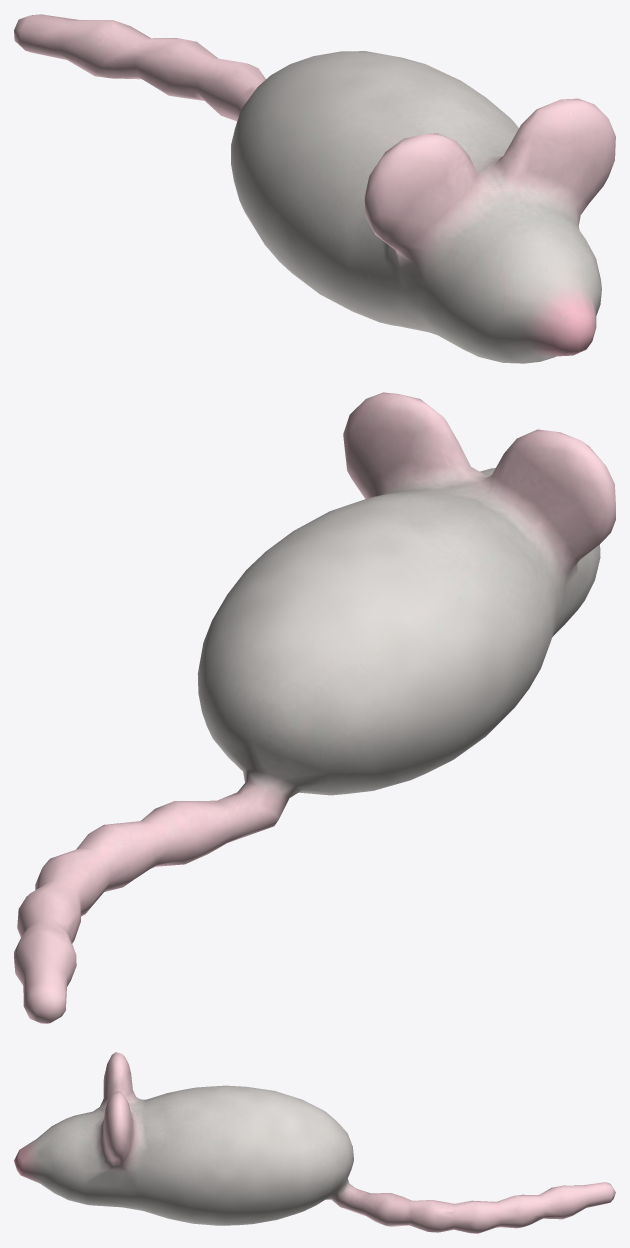
File: mouse_toy.fbx
3 views of the same model, one above another, from view 1: azimuth 30°, elevation 25°; view 2: azimuth 150°, elevation 25°; view 3: azimuth 270°, elevation 25° (orthographic). The views are drawn at different scales.
Parts seen in each view (by area): view 1: mouse_toy.001; view 2: mouse_toy.001; view 3: mouse_toy.001.
Part boxes in pixels (box(x1,y1,x2,y2)): mouse_toy.001: box(14, 14, 615, 363); mouse_toy.001: box(14, 392, 615, 1023); mouse_toy.001: box(14, 1052, 615, 1233).
Bounding box in the file's own units: 0.0458 × 0.0439 × 0.1682.
1 material, 1 textured.
